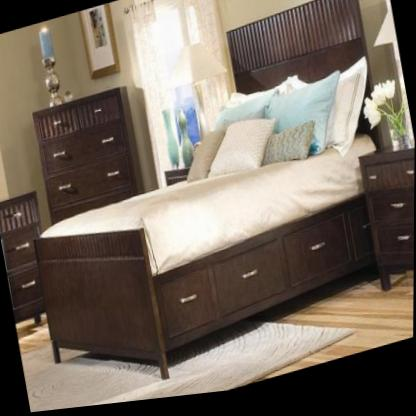Bed: (36, 70, 376, 383)
Nightstand: (358, 148, 415, 300)
Wooden floor: (287, 282, 414, 379)
